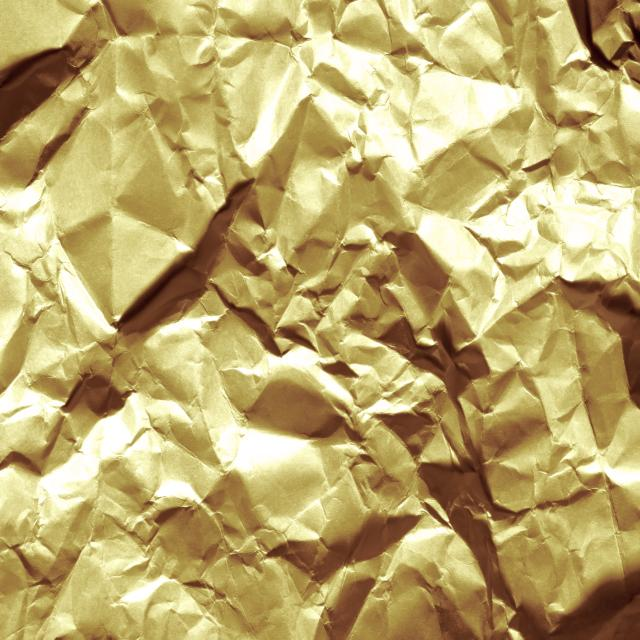paper: (168, 66, 500, 497)
